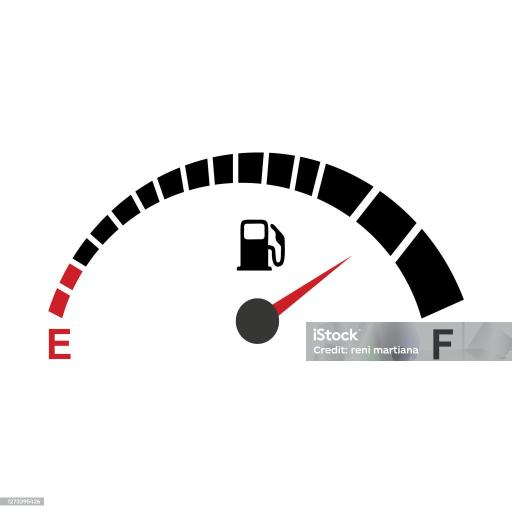empty: (40, 326, 72, 366)
fuel_icon: (234, 214, 289, 279)
full: (422, 326, 462, 364)
guage_area: (34, 137, 474, 378)
needle_center: (235, 293, 290, 343)
needle_tip: (335, 249, 366, 274)
